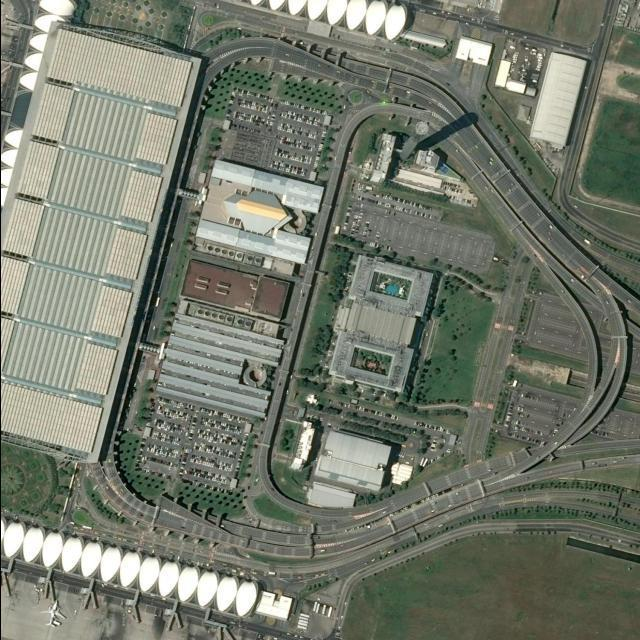Aircraft: (41, 601, 67, 627)
